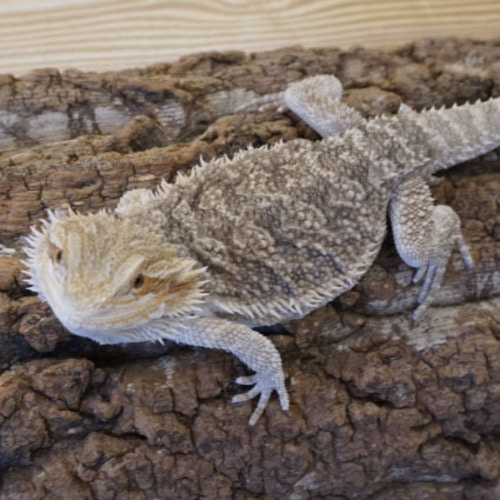bearded: (18, 72, 500, 429)
